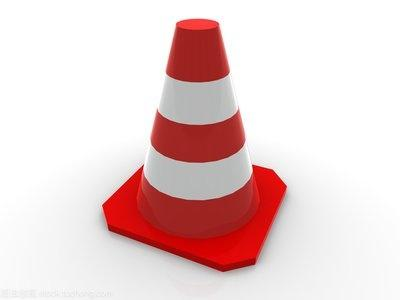cone_barrel: (122, 16, 268, 235)
